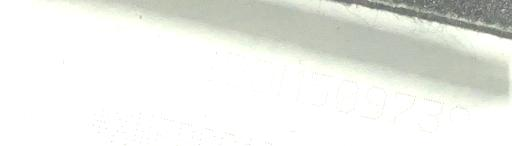letter: (50, 8, 82, 51), (274, 62, 306, 102), (303, 69, 335, 109), (414, 94, 446, 133), (78, 17, 108, 58), (248, 54, 276, 96), (23, 3, 51, 44), (108, 25, 136, 66), (219, 50, 249, 88), (165, 36, 193, 76), (468, 108, 500, 143), (358, 83, 388, 120), (441, 102, 471, 139), (137, 31, 165, 70), (388, 89, 418, 124), (332, 76, 360, 113), (194, 44, 216, 82)
